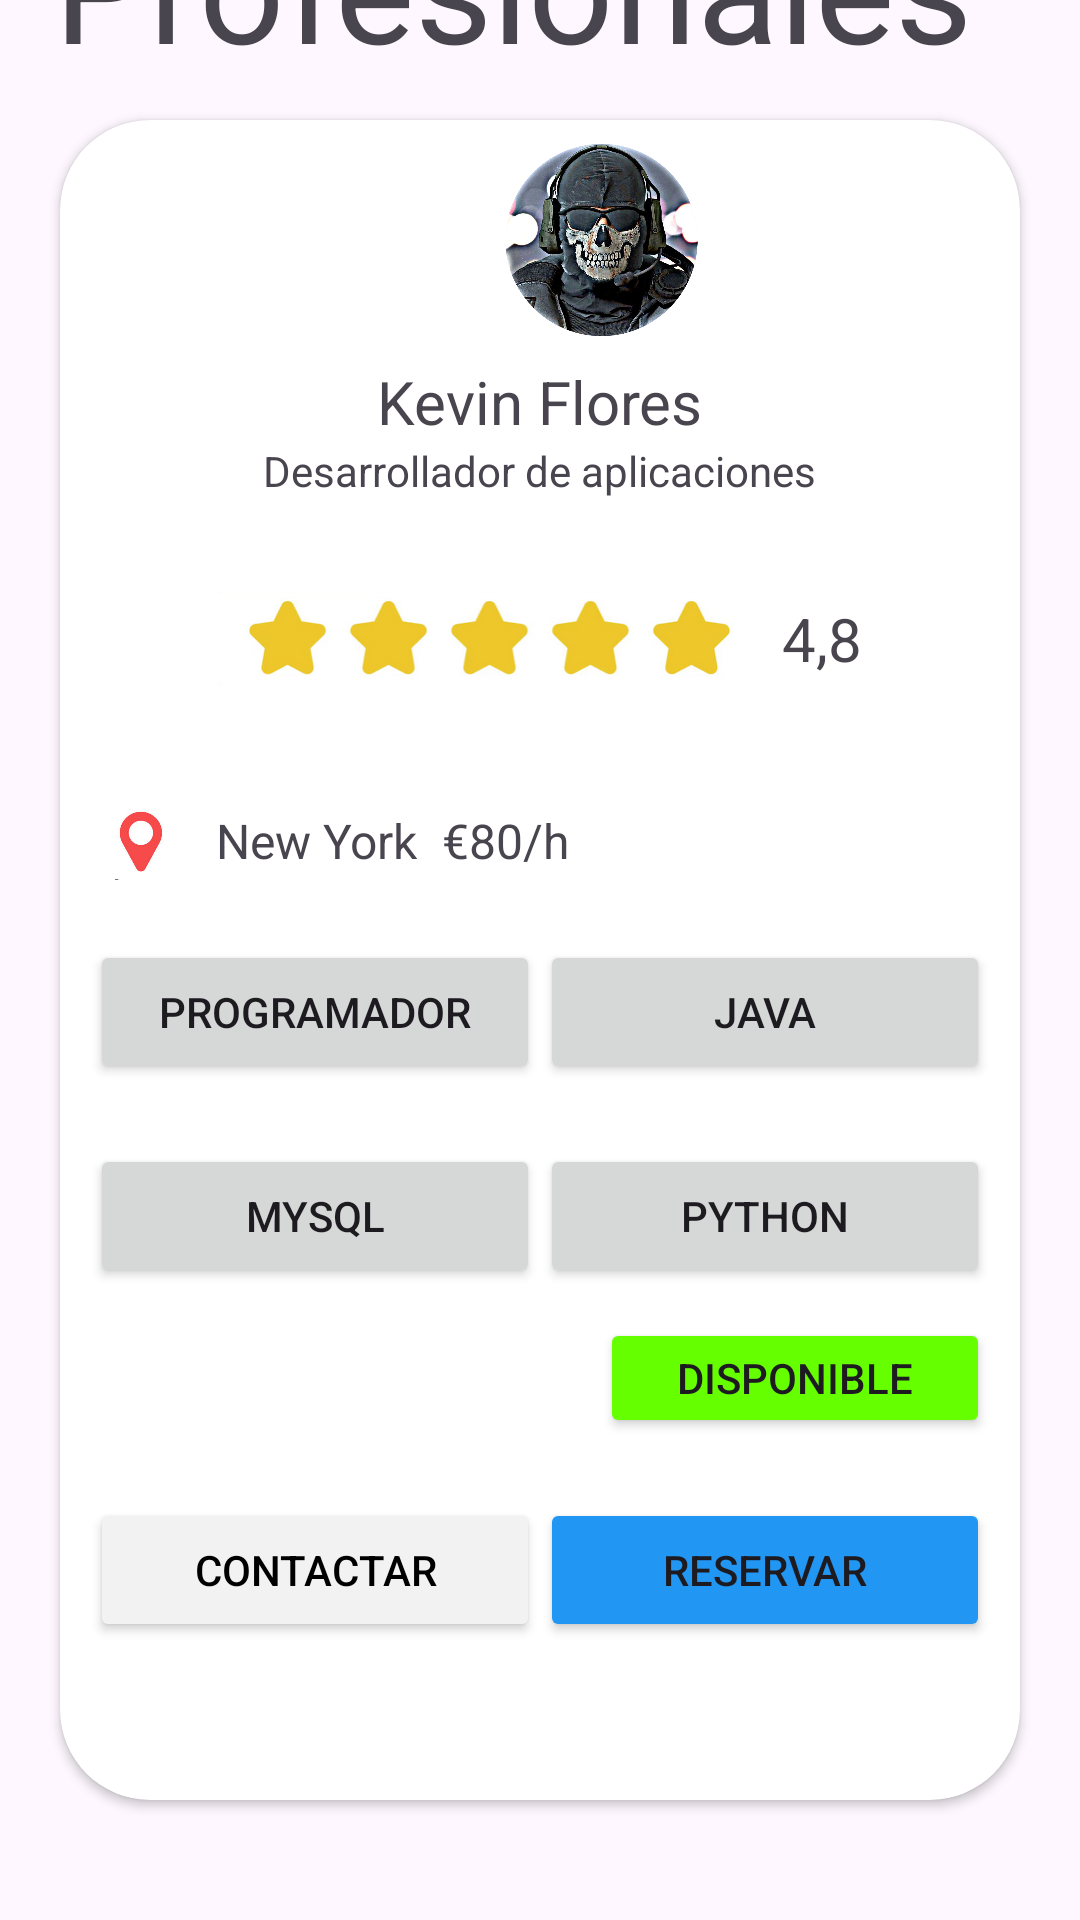

Icons on this 1080*1920 Android screen, each with its box as [x1, y1, x2, y2]:
card ubicacion: [115, 811, 162, 880]
